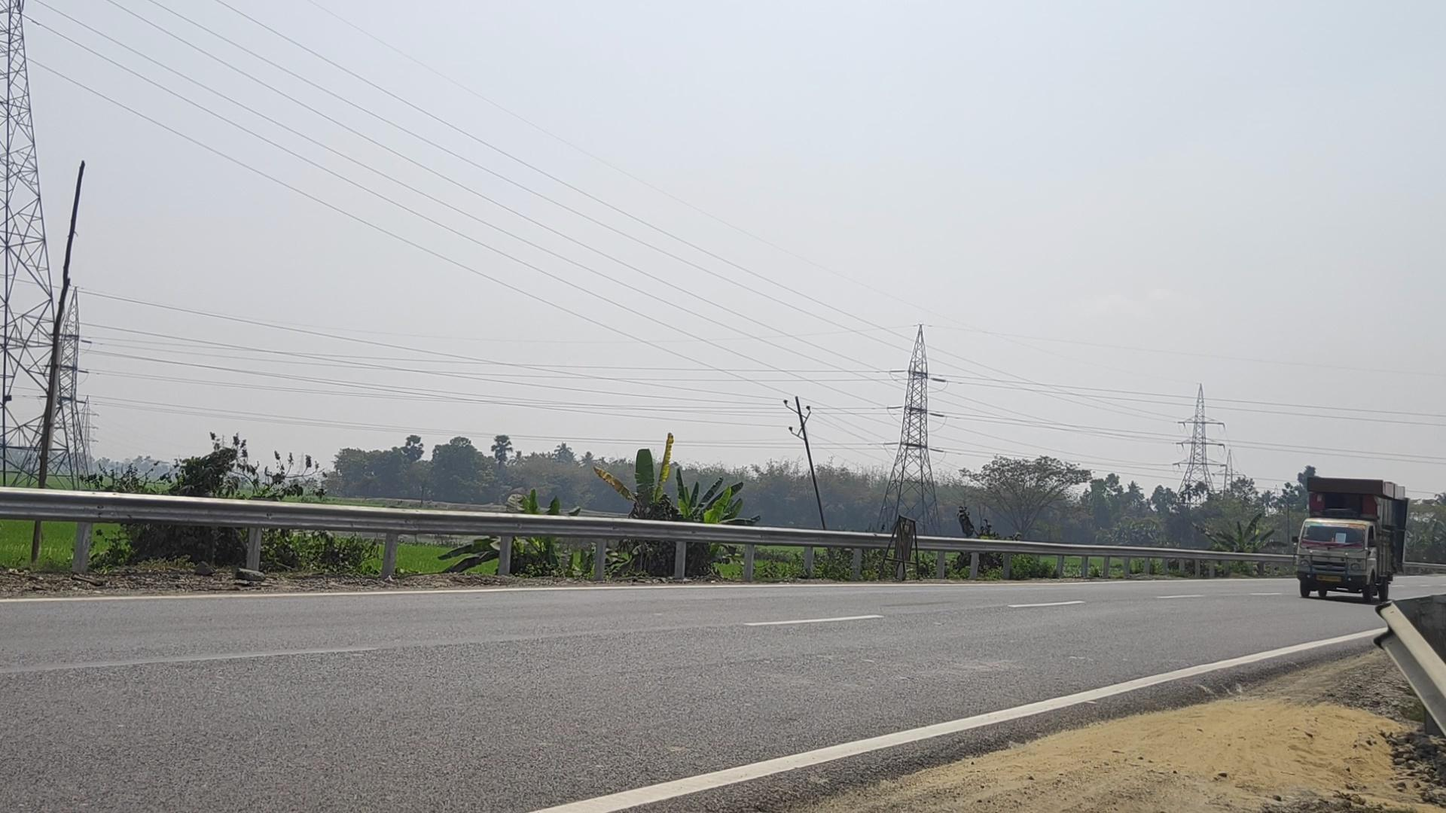van: (1292, 477, 1409, 604)
